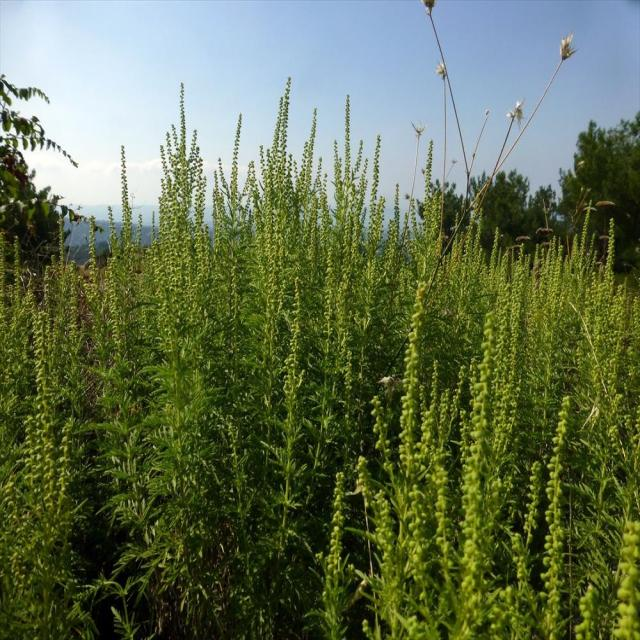ambrosia: (364, 284, 533, 640), (552, 391, 640, 639), (11, 358, 80, 609), (76, 134, 149, 362), (250, 74, 307, 335), (156, 80, 216, 318), (326, 90, 391, 277), (562, 194, 628, 345), (396, 126, 454, 272), (307, 454, 355, 600)
